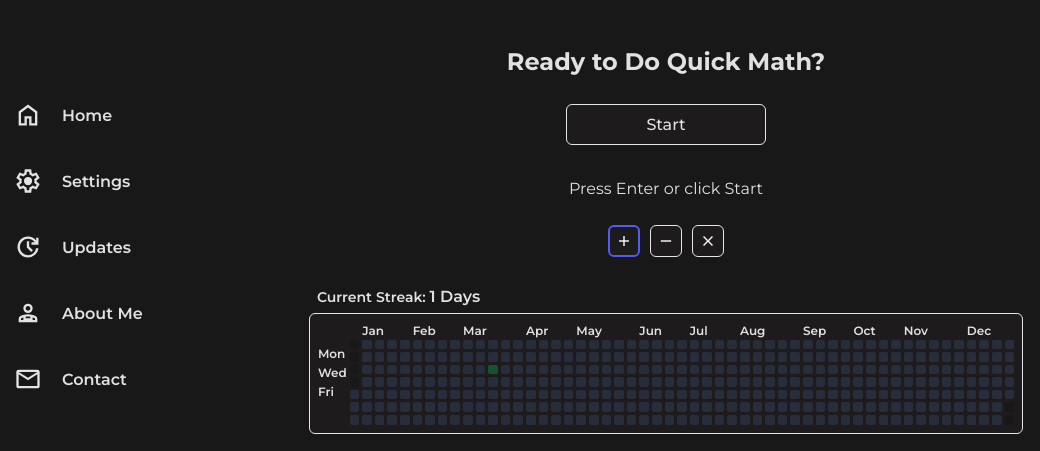
Test case: ScorePanel navigation behavior › Returns to IntroPanel when Escape is pressed on ScorePanel
Click the button "Start": point(666, 124) [566,104,766,144]
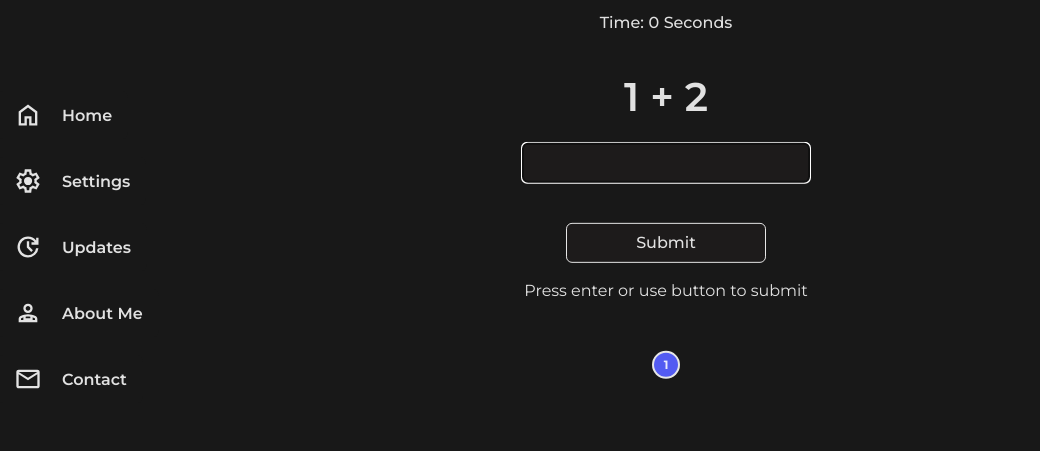
In the field named "answer-input": point(666, 162) [522,142,810,182], type "3"
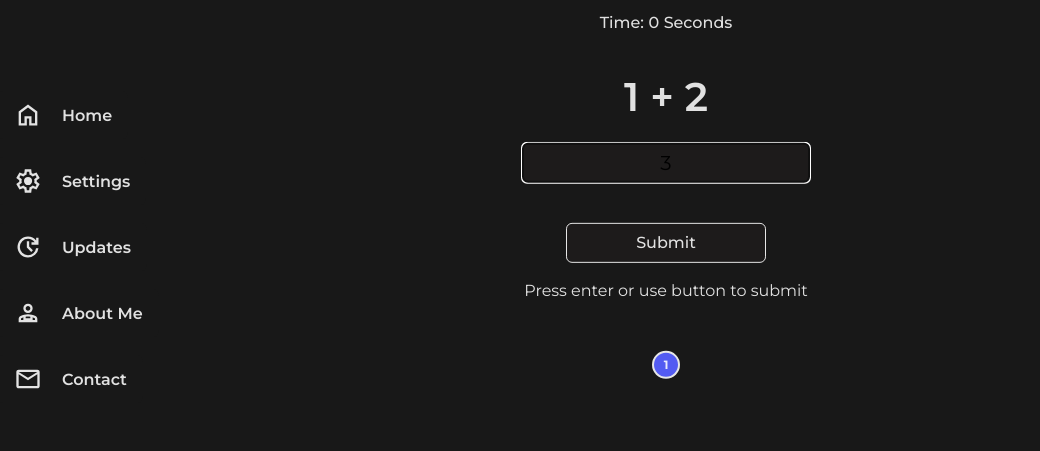
Click the button "Submit": point(666, 242) [566,222,766,263]
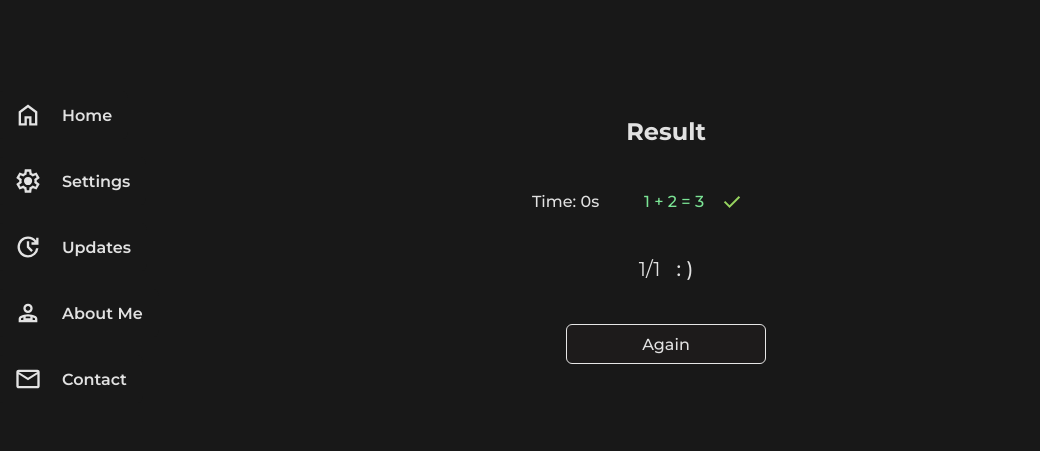
Result: the heading "Result" is shown at [626,114,706,150]
Press Escape
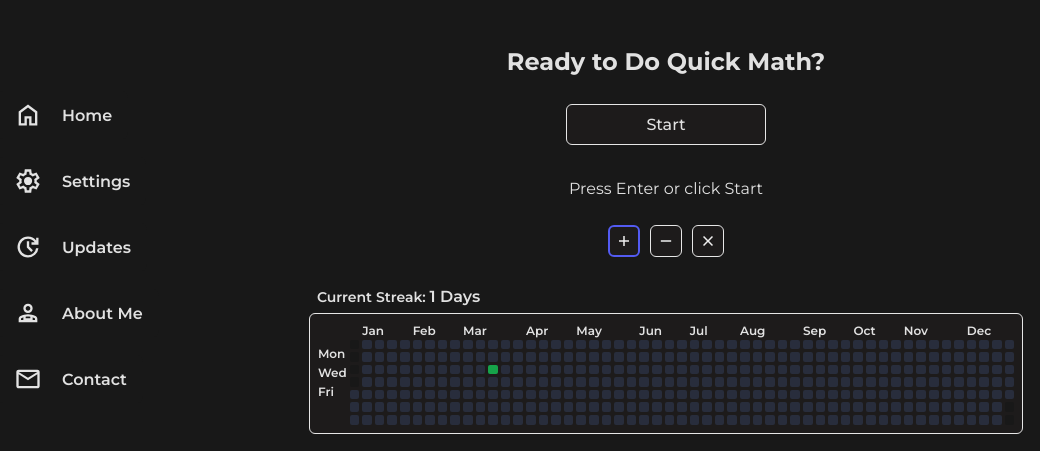
Result: the heading "Ready to Do Quick Math?" is shown at [507,44,825,80]
